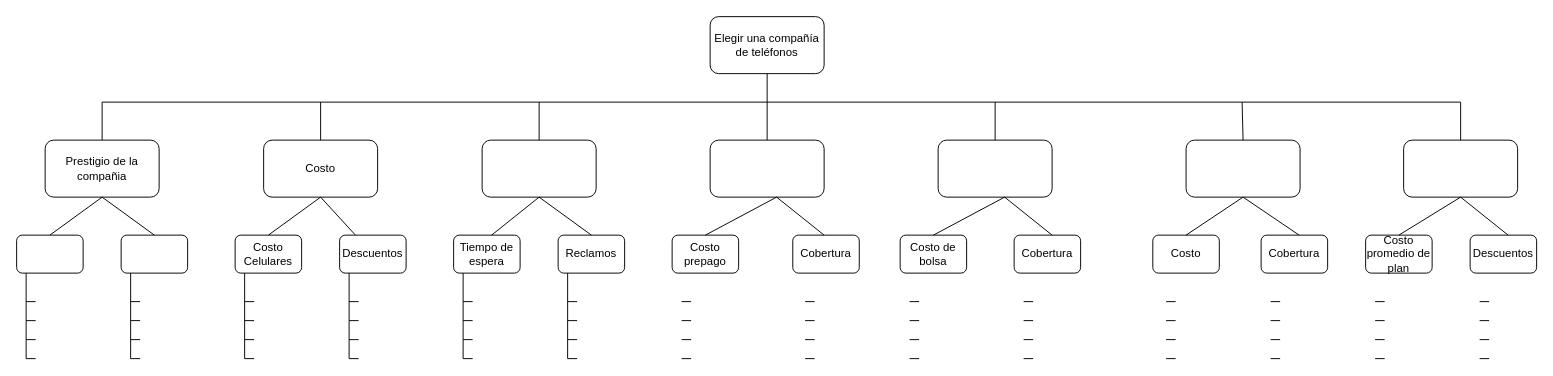
This 1553x376 diagram has some shape labels left out. The shapes that lost their labels are listed below. From the top down, each one's centre as x and y in pixels, then its label:
At pixel 538 168: "Atención al cliente".
At pixel 766 168: "Servicio de llamadas".
At pixel 994 168: "Servicio de navegación".
At pixel 1242 168: "Costo Roaming".
At pixel 1460 168: "Planes".
At pixel 49 253: "Popularidad".
At pixel 154 253: "Usuarios Satisfechos".
